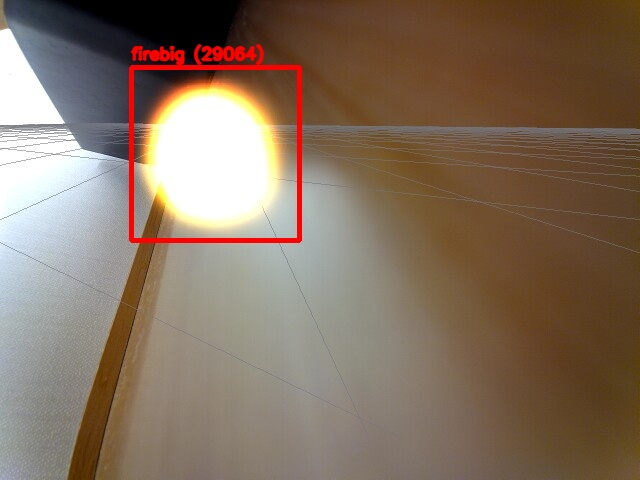firebig: (131, 67, 299, 240)
